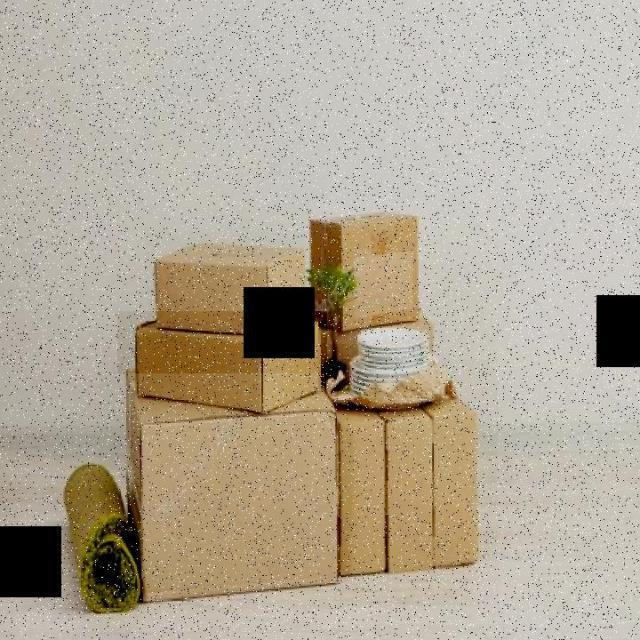box: (98, 373, 340, 614), (333, 359, 498, 605), (117, 311, 327, 428), (310, 201, 431, 344), (146, 232, 304, 340)
